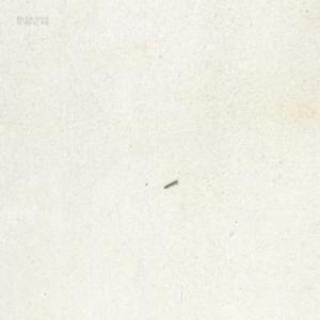Bolttrack_idkeyframe: (162, 176, 176, 188)
